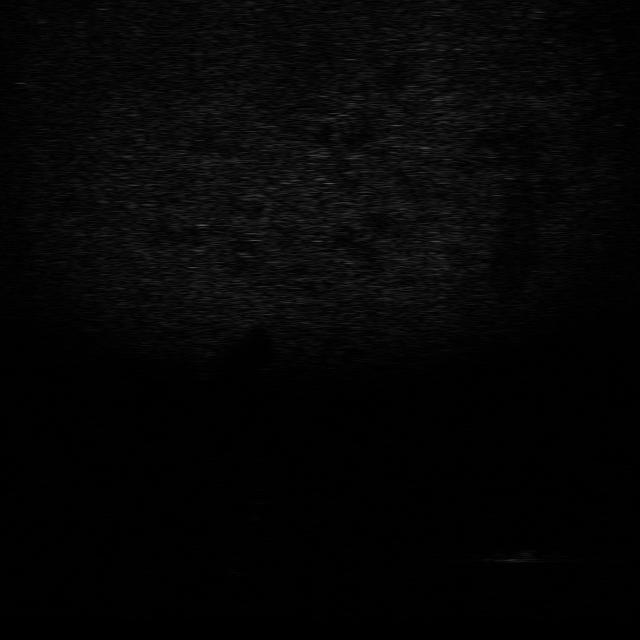ball: (236, 482, 279, 508)
metal bucket: (472, 544, 570, 565)
tyre: (217, 550, 265, 580)
